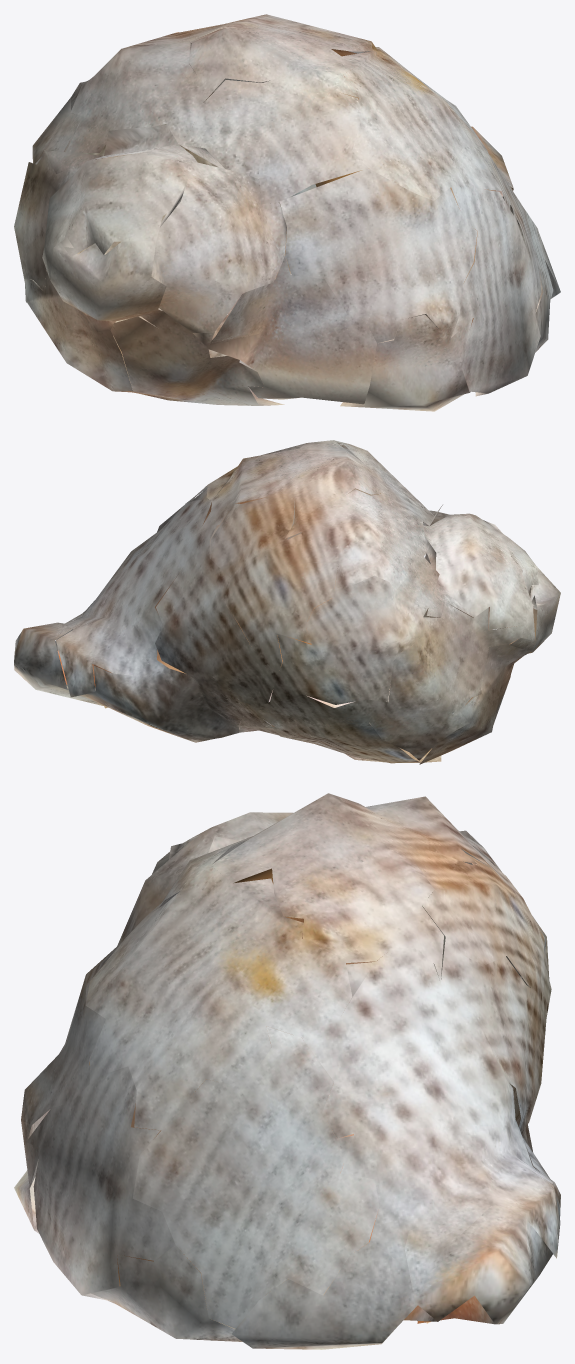
File: whelk-low.glb
3 views of the same model, one above another, from view 1: azimuth 30°, elevation 25°; view 2: azimuth 150°, elevation 25°; view 3: azimuth 270°, elevation 25° (orthographic). The views are drawn at different scales.
Visible parts, largest first — view 1: Whelk; view 2: Whelk; view 3: Whelk.
Boxes of the visible parts, left/top/right/bottom form: Whelk: left=14, top=14, right=560, bottom=411; Whelk: left=14, top=440, right=560, bottom=764; Whelk: left=14, top=793, right=560, bottom=1349.
Size of the model in its own units: 1.11 by 0.6577 by 0.8162.
1 material, 1 textured.
